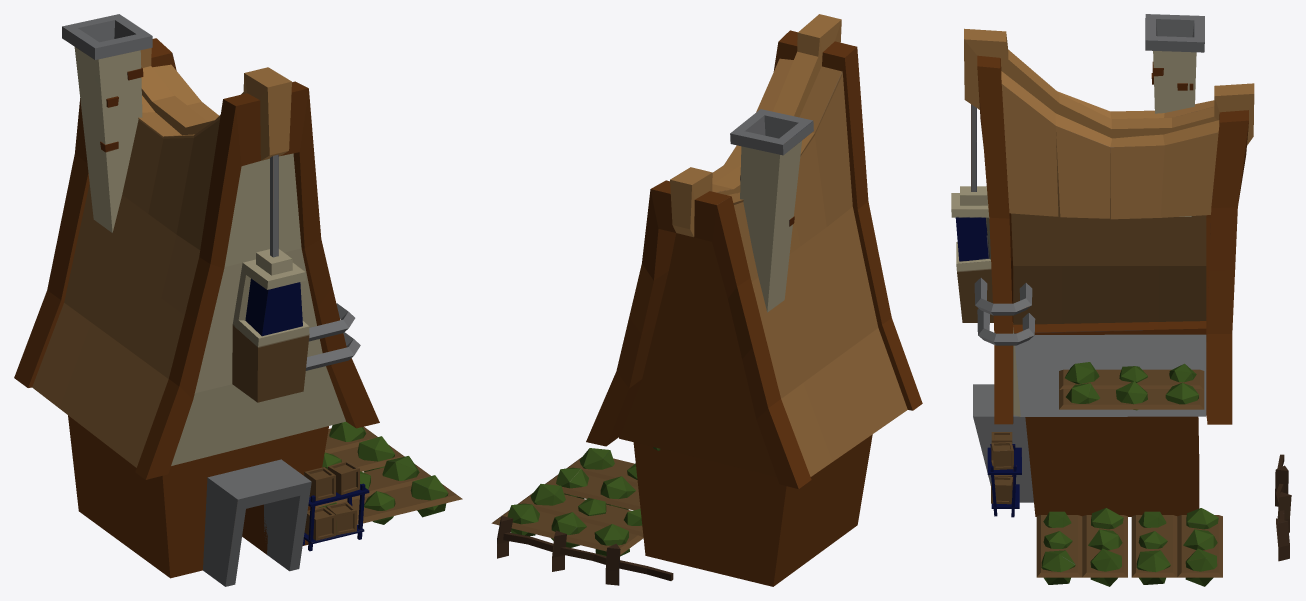
3 renders of one model, left to right at view 1: azimuth 30°, elevation 25°; view 2: azimuth 150°, elevation 25°; view 3: azimuth 270°, elevation 25°, orthographic. The views are drawn at different scales.
Parts seen in each view (by area): view 1: 柱体.011; view 2: 柱体.011; view 3: 柱体.011.
Part boxes in pixels (x1=…): 柱体.011: x1=14, y1=14, x2=462, y2=586; 柱体.011: x1=491, y1=14, x2=922, y2=586; 柱体.011: x1=951, y1=14, x2=1291, y2=586.
Size of the model in its own units: 210 by 306 by 203.
